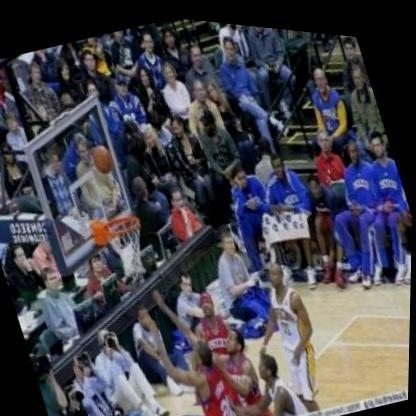basketball: (90, 139, 117, 173)
